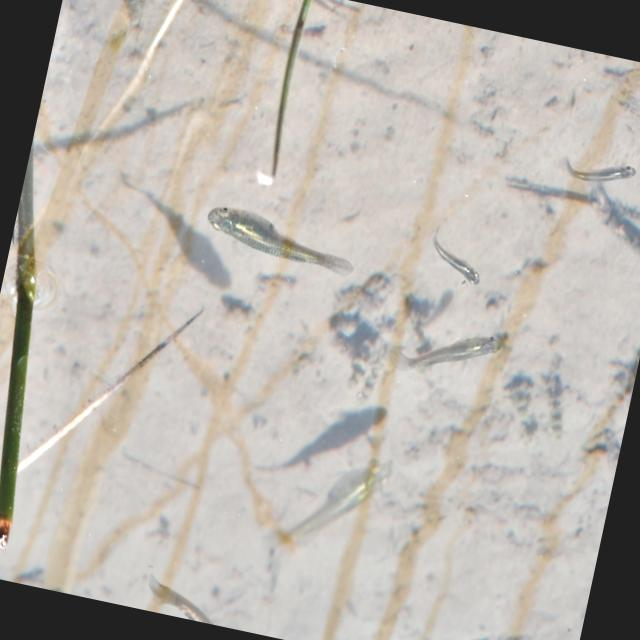Sivrisinek Baligi: (286, 438, 395, 564), (199, 200, 362, 280), (398, 311, 508, 390), (420, 226, 487, 286), (558, 146, 640, 194)
